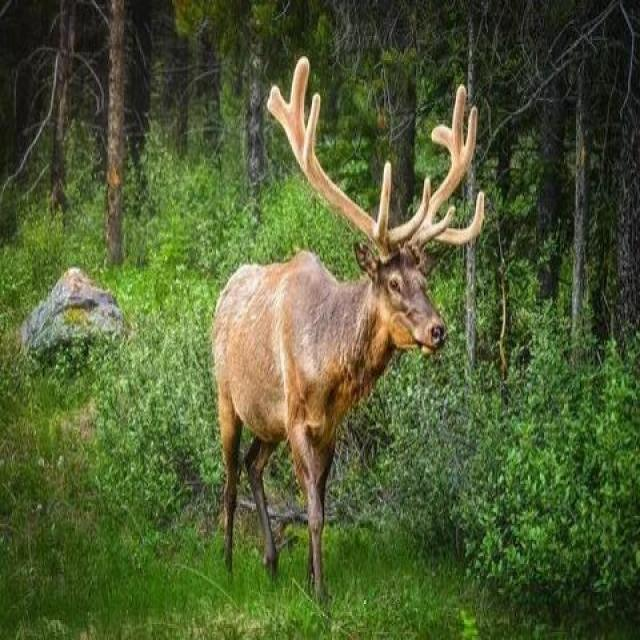deer: (126, 45, 489, 622)
